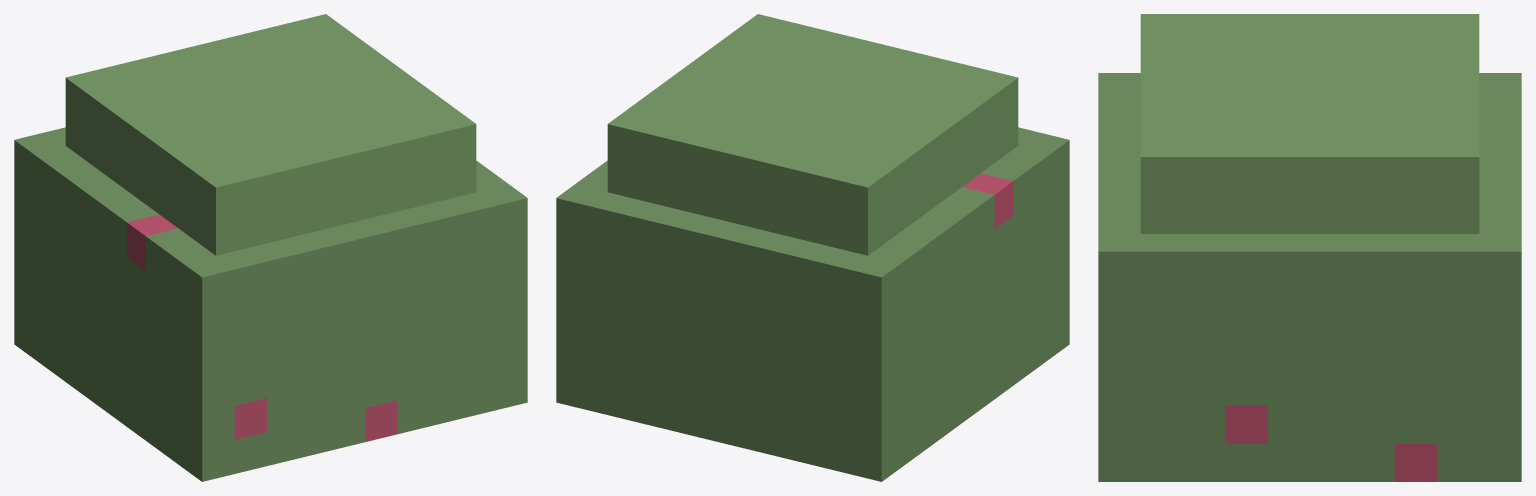
File: frambuesa_04.glb
3 views of the same model, side by side, from view 1: azimuth 30°, elevation 25°; view 2: azimuth 150°, elevation 25°; view 3: azimuth 270°, elevation 25° (orthographic). The views are drawn at different scales.
Visible parts, largest first — view 1: frambuesa_04; view 2: frambuesa_04; view 3: frambuesa_04.
Part boxes in pixels (left/top/right/bottom): frambuesa_04: left=14, top=14, right=527, bottom=481; frambuesa_04: left=556, top=14, right=1069, bottom=481; frambuesa_04: left=1098, top=14, right=1521, bottom=481.
Bounding box in the file's own units: 1 × 0.8 × 1.
